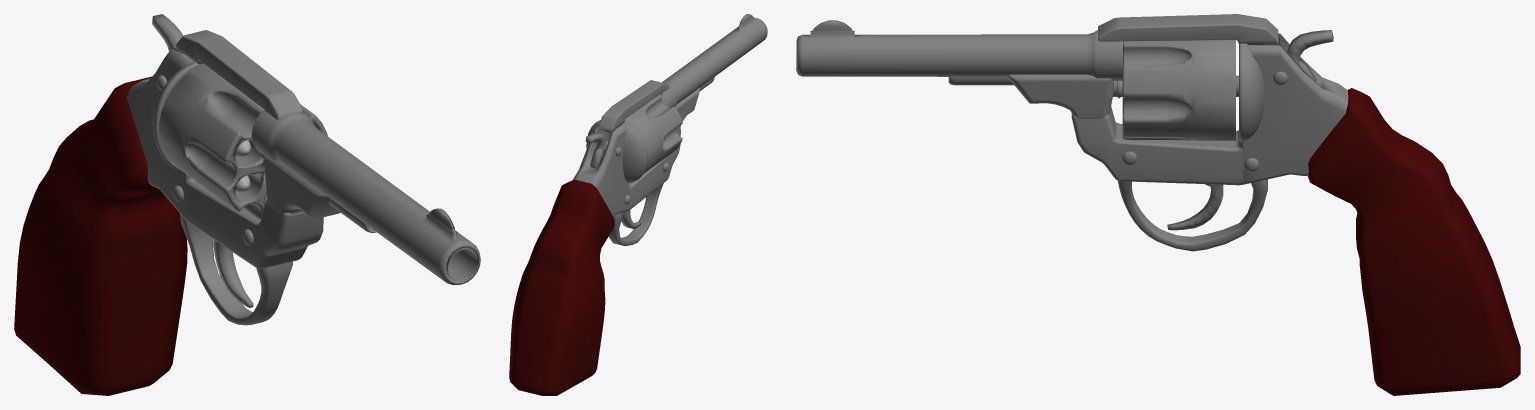
Rendered from Gun.fbx.
3 renders of one model, left to right at view 1: azimuth 30°, elevation 25°; view 2: azimuth 150°, elevation 25°; view 3: azimuth 270°, elevation 25°, orthographic. The views are drawn at different scales.
Parts seen in each view (by area): view 1: pCylinder35_pCylinder37; view 2: pCylinder35_pCylinder37; view 3: pCylinder35_pCylinder37.
Part boxes in pixels (bbox=[...]): pCylinder35_pCylinder37: bbox=[14, 14, 480, 395]; pCylinder35_pCylinder37: bbox=[509, 14, 767, 395]; pCylinder35_pCylinder37: bbox=[796, 14, 1520, 395].
Bounding box in the file's own units: 129 × 471 × 852.
